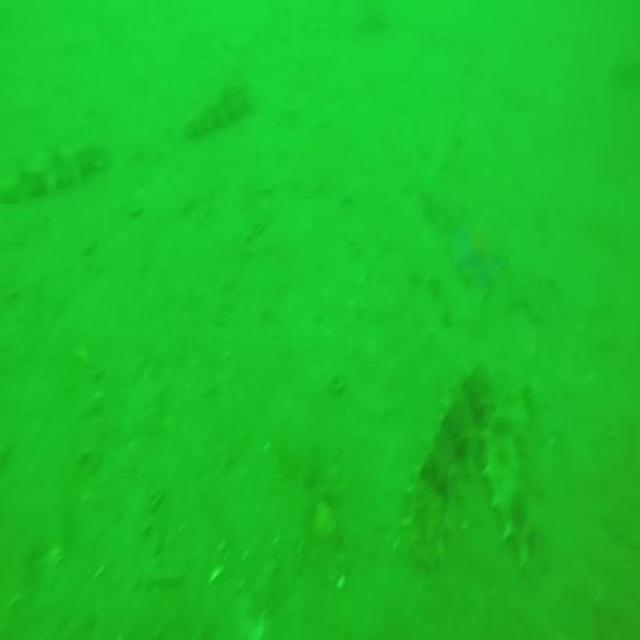holothurian: (404, 372, 486, 570), (480, 384, 548, 580), (11, 152, 104, 202), (179, 77, 255, 133)
starfish: (448, 218, 505, 281)
